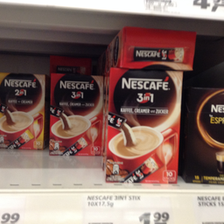coffee: (101, 67, 182, 183), (49, 72, 105, 157), (181, 86, 224, 185), (2, 72, 45, 150)
